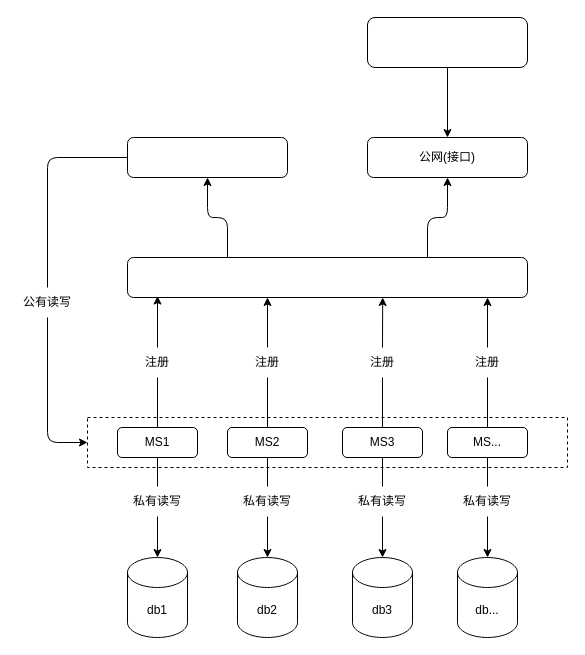
Some shapes in this 585 by 655 pixel diagram are drawn without their labels. The centre of each missing label's shape, as x and y in pixels:
register: point (327, 277)
内网(接口): point (207, 157)
外网调用: point (447, 42)
